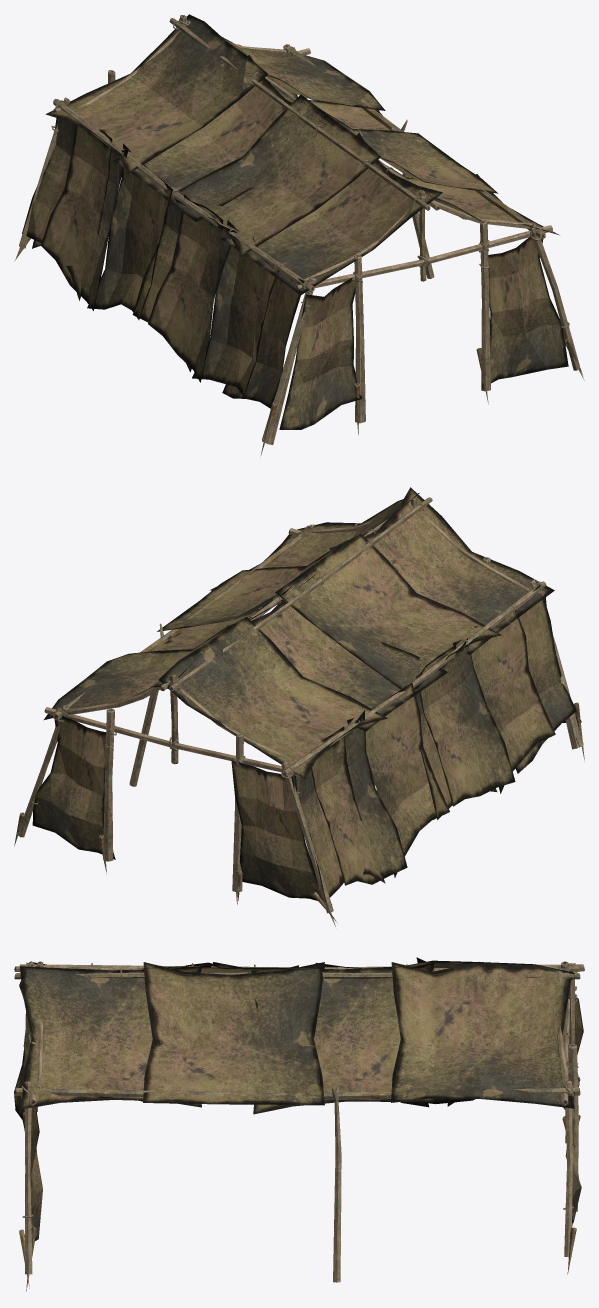
File: TW2_5_MINEHUT_01_3-transformed.glb
The picture shows the model from 3 angles, top to bottom: view 1: azimuth 30°, elevation 25°; view 2: azimuth 150°, elevation 25°; view 3: azimuth 270°, elevation 25°; orthographic projection. The views are drawn at different scales.
Visible parts, largest first — view 1: default; view 2: default; view 3: default.
Part boxes in pixels (bbox=[...]): default: bbox=[14, 14, 584, 455]; default: bbox=[14, 487, 584, 926]; default: bbox=[14, 957, 584, 1291].
Bounding box in the file's own units: 5.4 × 3.69 × 7.52.
2 materials, 2 textured.
